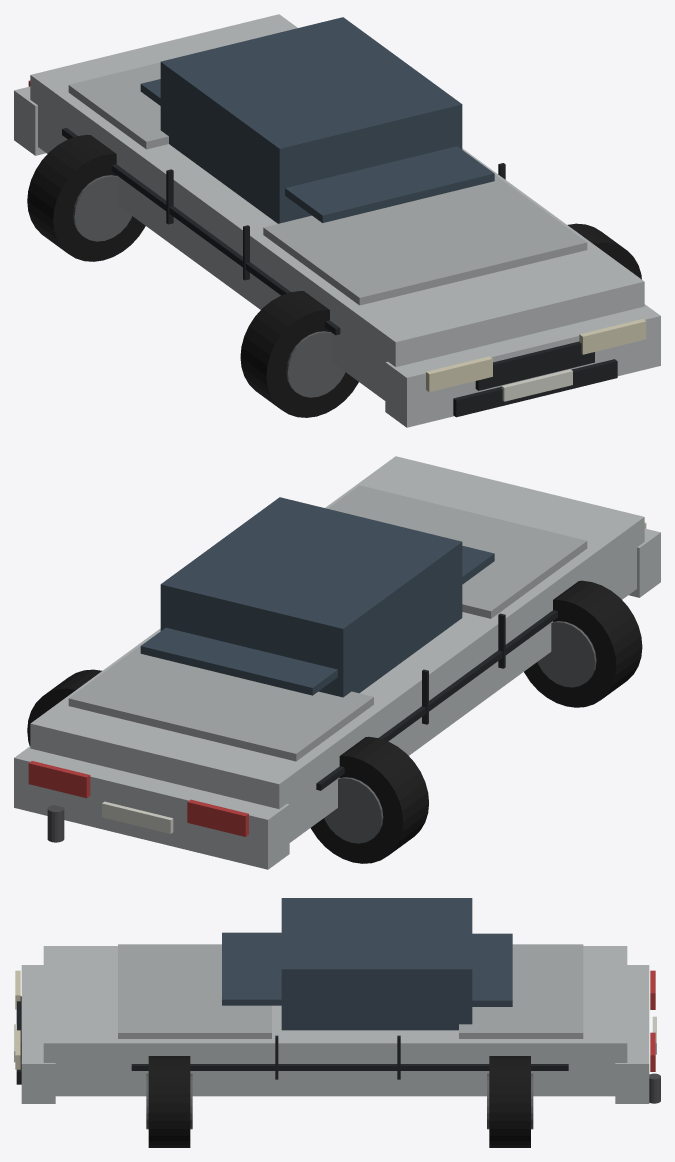
File: altima_2010_style.glb
3 views of the same model, one above another, from view 1: azimuth 30°, elevation 25°; view 2: azimuth 150°, elevation 25°; view 3: azimuth 270°, elevation 25° (orthographic). The views are drawn at different scales.
Parts seen in each view (by area): view 1: body_shell, cabin_glass_block, hood, front_bumper, front_windshield, wheel_rl, wheel_fl, trunk_deck, rim_rl, rim_fl, front_grille, lower_grille (+6 smaller); view 2: body_shell, cabin_glass_block, trunk_deck, rear_bumper, hood, wheel_rl, wheel_fl, rear_window, rim_fl, rim_rl, side_trim_l, tail_light_r (+6 smaller); view 3: body_shell, cabin_glass_block, hood, trunk_deck, front_windshield, wheel_fr, wheel_rr, front_bumper, rear_bumper, rear_window, side_trim_r.
Part boxes in pixels (bbox=[...]): body_shell: bbox=[30, 14, 644, 400]; cabin_glass_block: bbox=[160, 17, 462, 223]; hood: bbox=[263, 175, 587, 305]; front_bumper: bbox=[385, 304, 660, 427]; front_windshield: bbox=[285, 146, 494, 222]; wheel_rl: bbox=[27, 134, 145, 261]; wheel_fl: bbox=[240, 291, 358, 417]; trunk_deck: bbox=[68, 62, 168, 149]; rim_rl: bbox=[73, 175, 131, 241]; rim_fl: bbox=[286, 331, 345, 397]; front_grille: bbox=[475, 341, 594, 390]; lower_grille: bbox=[453, 359, 617, 417]; body_shell: bbox=[30, 456, 644, 842]; cabin_glass_block: bbox=[160, 497, 462, 697]; trunk_deck: bbox=[68, 641, 373, 761]; rear_bumper: bbox=[14, 746, 289, 869]; hood: bbox=[328, 485, 587, 618]; wheel_rl: bbox=[311, 736, 428, 863]; wheel_fl: bbox=[524, 580, 642, 707]; rear_window: bbox=[140, 627, 337, 695]; rim_fl: bbox=[537, 621, 596, 687]; rim_rl: bbox=[324, 777, 383, 843]; side_trim_l: bbox=[316, 610, 557, 790]; tail_light_r: bbox=[28, 761, 90, 798]; body_shell: bbox=[43, 946, 627, 1096]; cabin_glass_block: bbox=[281, 898, 472, 1030]; hood: bbox=[118, 944, 271, 1038]; trunk_deck: bbox=[459, 944, 583, 1038]; front_windshield: bbox=[222, 932, 281, 1005]; wheel_fr: bbox=[148, 1056, 190, 1147]; wheel_rr: bbox=[489, 1056, 530, 1147]; front_bumper: bbox=[21, 965, 55, 1103]; rear_bumper: bbox=[615, 965, 649, 1103]; rear_window: bbox=[472, 933, 512, 1006]; side_trim_r: bbox=[131, 1064, 568, 1070].
Bounding box in the file's own units: 2.84 × 1.41 × 5.3.
